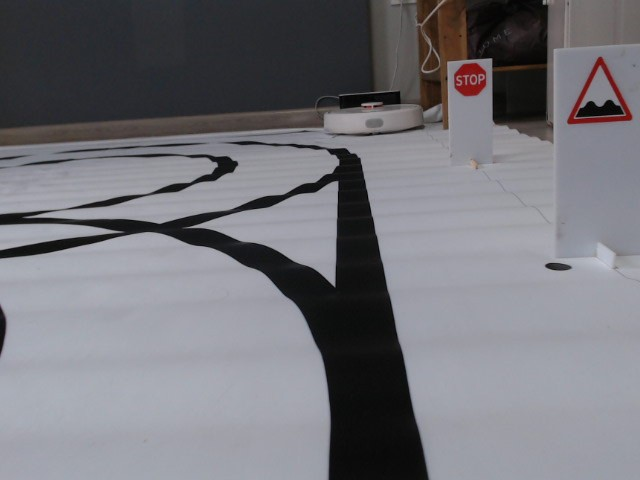Nerov: (564, 54, 633, 126)
